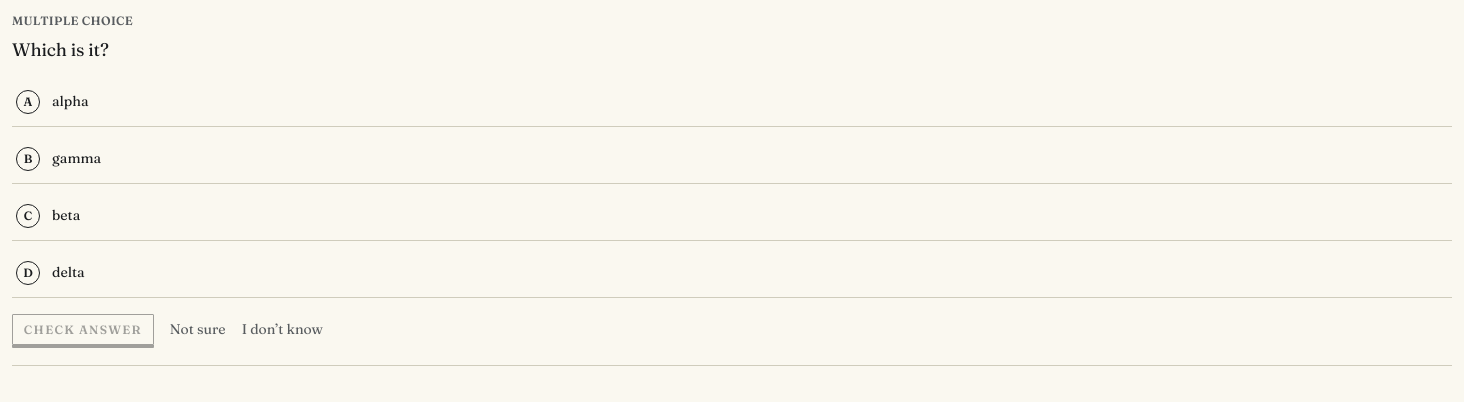
McqCard › lets you say you do not know: a miss, the answer shown, nothing picked
Click the button "I don’t know" at (282, 330), box [242,319,323,341]
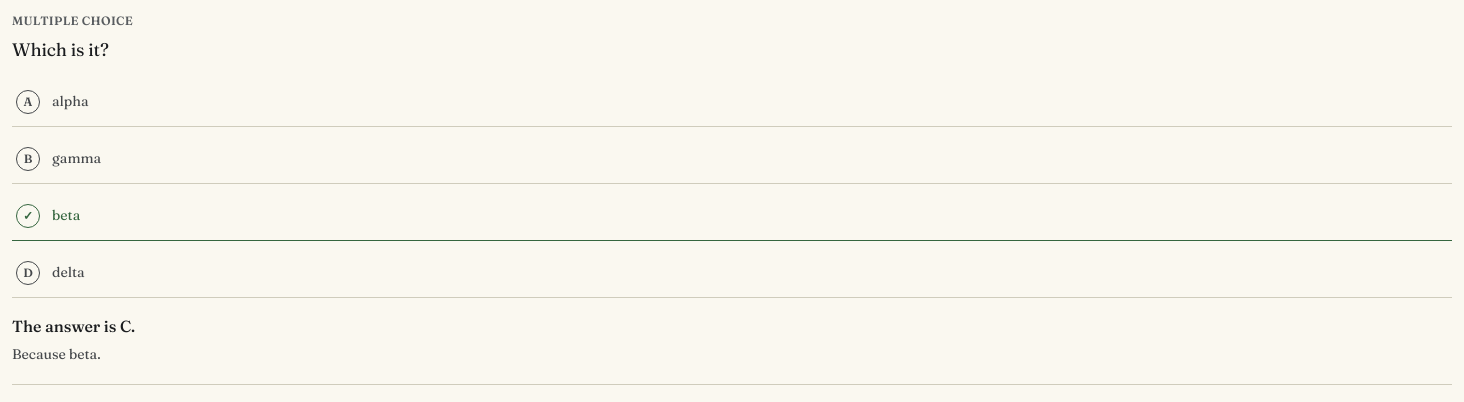
Expected: the radio button named ", the answer" shows "beta", [12,192,1452,241]
Result: the text "The answer is C." is shown at [12,316,135,336]
Result: the text "Because beta." is shown at [12,345,101,363]
